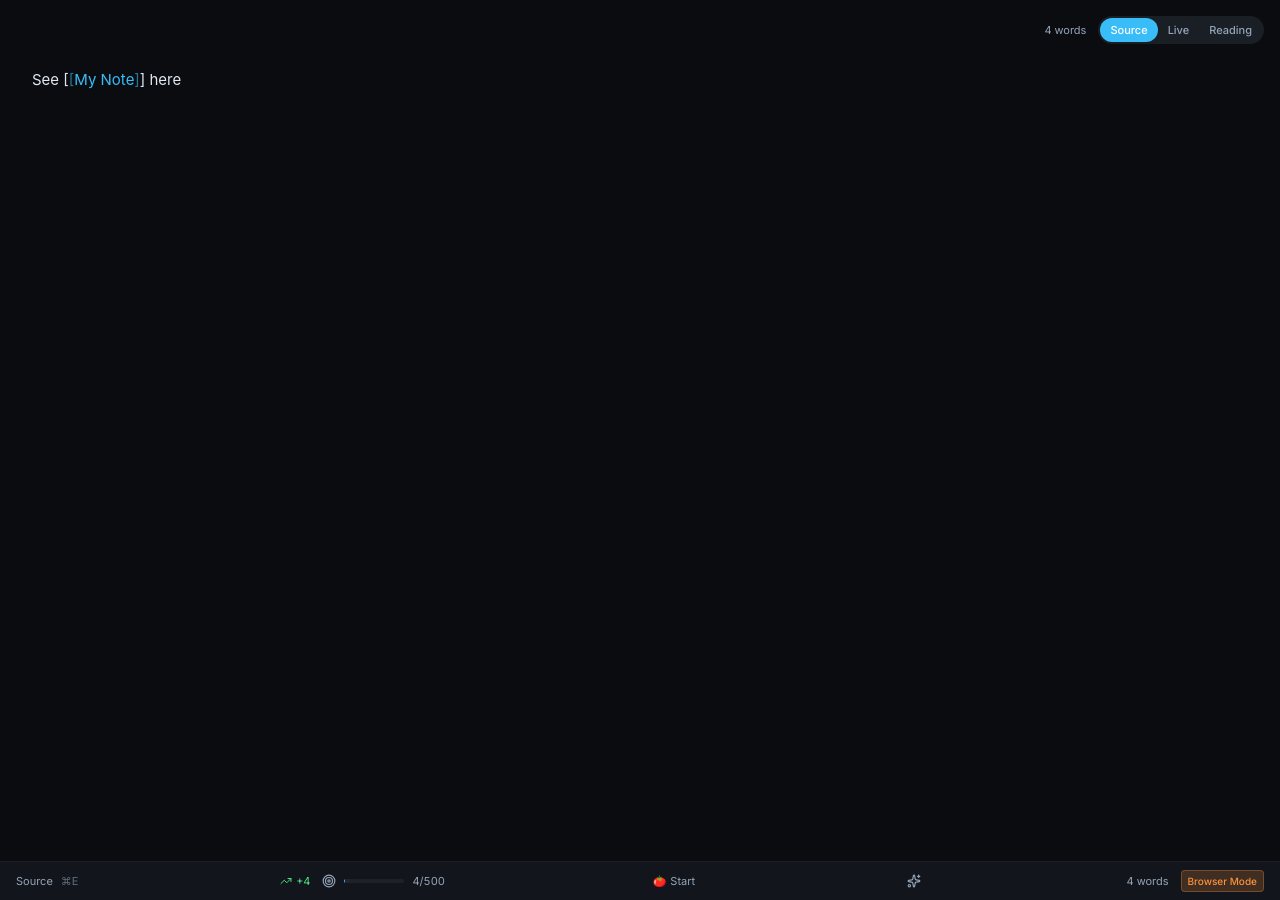
HybridEditor Reading Mode › enters reading mode and shows prose container
The width and height of the screenshot is (1280, 900).
Click the button "Reading" at point(1231, 30), box [1199,18,1262,42]
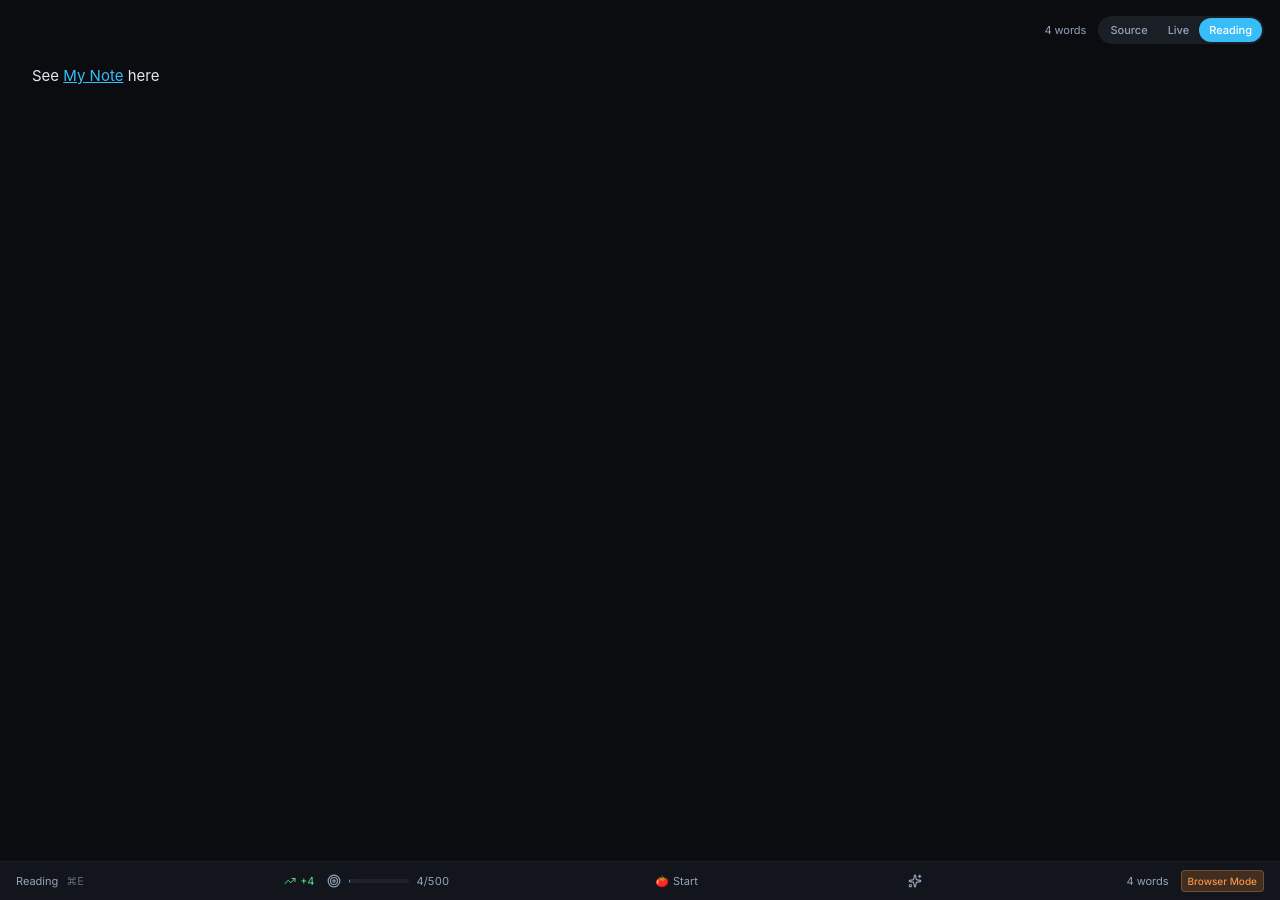
Expected: the button "Source" is shown, [1100,18,1158,42]
Now the element showing "See My Note here" is shown, box [32,66,159,85]
